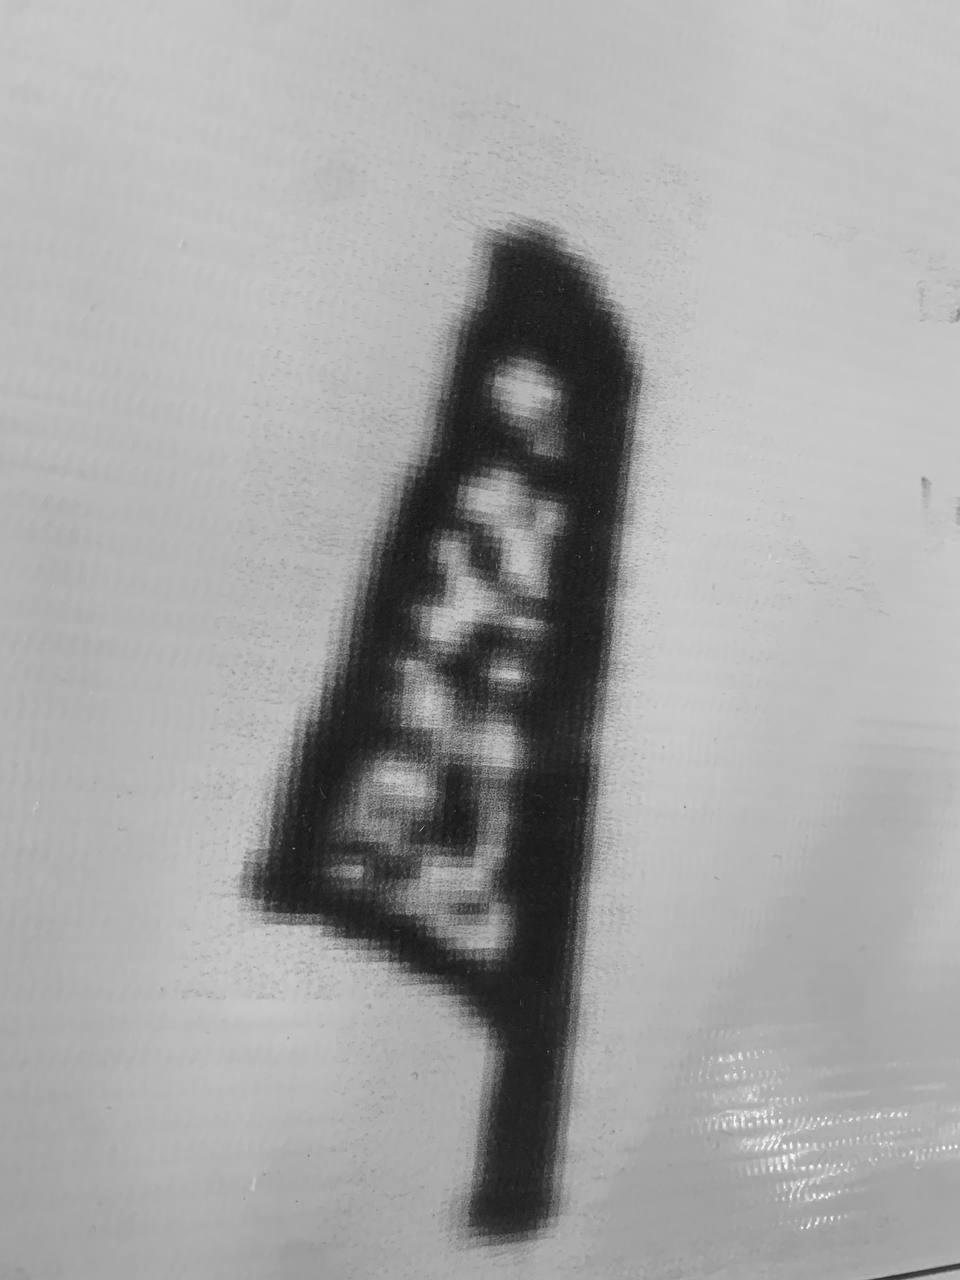Reed: (242, 222, 640, 1254)
